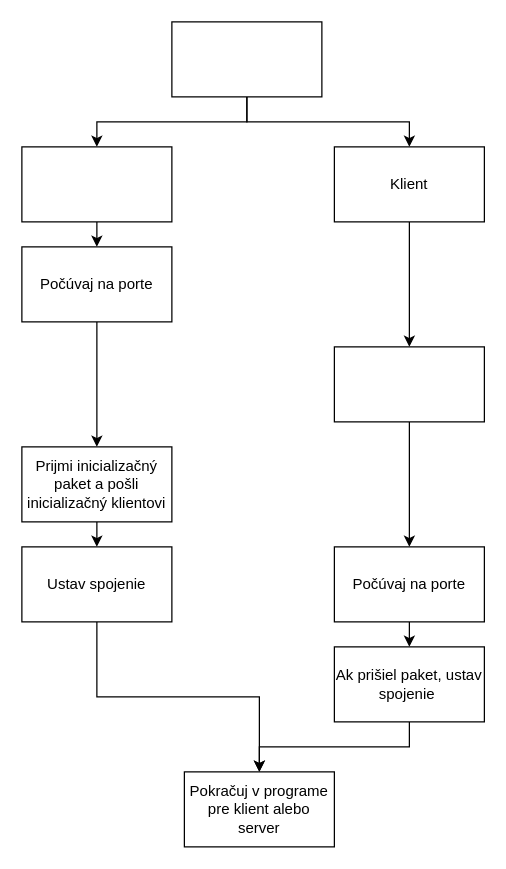
The diagram is 506 pixels wide and 869 high, and some of its shapes have lost their labels. The centre of each missing label's shape, as x and y in pixels:
Pošli inicializačný paket: point 408,384
Server: point 96,184
Štart: point 246,59
